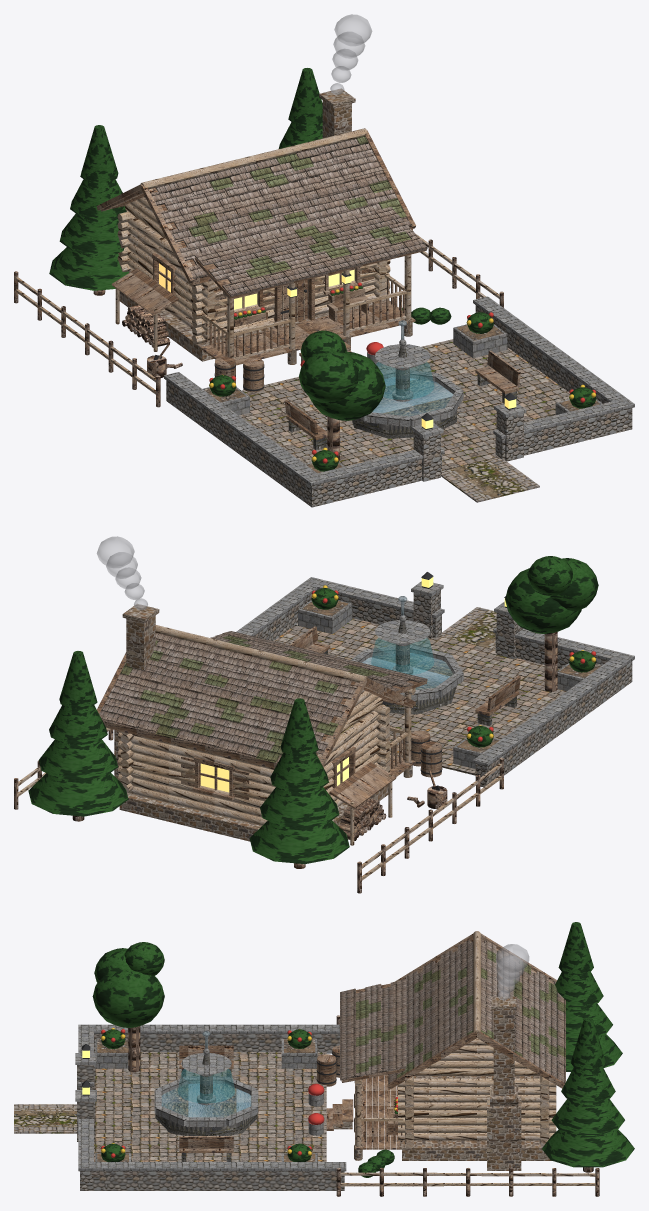
Rendered from cabana_patio_juego.glb.
3 renders of one model, top to bottom at view 1: azimuth 30°, elevation 25°; view 2: azimuth 150°, elevation 25°; view 3: azimuth 270°, elevation 25°, orthographic. The views are drawn at different scales.
Visible parts, largest first — view 1: CB_Tablilla_-1_0_0, CB_Hoja_J-1_0, CB_Tablero_-1, CB_Tronco_F-1_0_0, CP_Empedrado, CP_Muro_I_Albardilla, CP_Muro_I, CB_Tablilla_-1_0_2, CB_Lena_0_0, CB_Zocalo, CP_Fuente_Pileta, CP_Entrada (+4 smaller); view 2: CB_Hoja_J-1_0, CB_Tablilla_-1_0_0, CB_Tronco_F-1_0_0, CP_Muro_I_Albardilla, CP_Empedrado, CB_Tablero_-1, CP_Muro_I, CB_Zocalo, CB_Tablilla_-1_0_2, CB_Lena_0_0, CP_Fuente_Pileta, CB_Humo_0 (+5 smaller); view 3: CB_Hoja_J-1_0, CB_Tablilla_-1_0_0, CP_Empedrado, CB_Tronco_F-1_0_0, CP_Muro_I_Albardilla, CP_Muro_I, CB_Tablero_-1, CB_Zocalo, CB_Tablilla_-1_0_2, CP_Fuente_Pileta, CP_Fuente_Agua, CP_Entrada (+5 smaller).
Part boxes in pixels (left/top/right/bottom): CB_Tablilla_-1_0_0: left=151, top=138, right=427, bottom=296; CB_Hoja_J-1_0: left=49, top=68, right=596, bottom=471; CB_Tablero_-1: left=96, top=130, right=520, bottom=440; CB_Tronco_F-1_0_0: left=16, top=128, right=499, bottom=394; CP_Empedrado: left=239, top=339, right=570, bottom=470; CP_Muro_I_Albardilla: left=164, top=296, right=634, bottom=485; CP_Muro_I: left=166, top=305, right=632, bottom=507; CB_Tablilla_-1_0_2: left=188, top=136, right=410, bottom=278; CB_Lena_0_0: left=14, top=239, right=503, bottom=462; CB_Zocalo: left=119, top=88, right=412, bottom=364; CP_Fuente_Pileta: left=288, top=346, right=516, bottom=450; CP_Entrada: left=441, top=457, right=539, bottom=502; CB_Hoja_J-1_0: left=28, top=556, right=598, bottom=864; CB_Tablilla_-1_0_0: left=99, top=631, right=427, bottom=763; CB_Tronco_F-1_0_0: left=18, top=625, right=501, bottom=880; CP_Muro_I_Albardilla: left=236, top=577, right=634, bottom=768; CP_Empedrado: left=273, top=618, right=566, bottom=775; CB_Tablero_-1: left=97, top=626, right=520, bottom=808; CP_Muro_I: left=254, top=590, right=632, bottom=787; CB_Zocalo: left=114, top=604, right=412, bottom=841; CB_Tablilla_-1_0_2: left=120, top=635, right=388, bottom=762; CB_Lena_0_0: left=14, top=632, right=557, bottom=893; CP_Fuente_Pileta: left=323, top=621, right=516, bottom=725; CB_Humo_0: left=97, top=536, right=147, bottom=610; CB_Hoja_J-1_0: left=92, top=922, right=634, bottom=1177; CB_Tablilla_-1_0_0: left=340, top=940, right=565, bottom=1083; CP_Empedrado: left=94, top=1052, right=326, bottom=1161; CB_Tronco_F-1_0_0: left=340, top=931, right=595, bottom=1186; CP_Muro_I_Albardilla: left=75, top=1024, right=346, bottom=1171; CP_Muro_I: left=77, top=1034, right=344, bottom=1190; CB_Tablero_-1: left=179, top=933, right=564, bottom=1152; CB_Zocalo: left=333, top=996, right=551, bottom=1170; CB_Tablilla_-1_0_2: left=356, top=949, right=565, bottom=1078; CP_Fuente_Pileta: left=155, top=1054, right=257, bottom=1161; CP_Fuente_Agua: left=161, top=1083, right=251, bottom=1117; CP_Entrada: left=14, top=1104, right=76, bottom=1133.
Size of the model in its own units: 12.14 by 8.35 by 20.65.
Materials: 23 (17 with a texture image).
